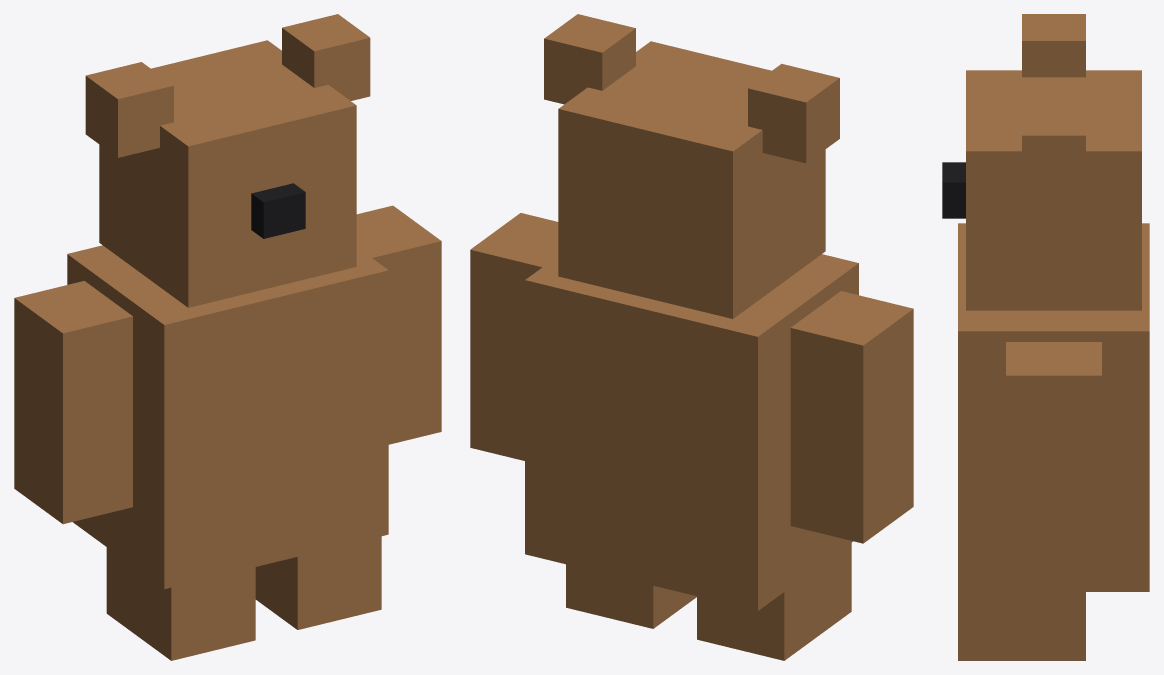
Rendered from GD_TeddyBear_01.glb.
3 renders of one model, left to right at view 1: azimuth 30°, elevation 25°; view 2: azimuth 150°, elevation 25°; view 3: azimuth 270°, elevation 25°, orthographic. The views are drawn at different scales.
Visible parts, largest first — view 1: GD_TeddyBear_01; view 2: GD_TeddyBear_01; view 3: GD_TeddyBear_01.
Part boxes in pixels (x1,y1,x2,y2): GD_TeddyBear_01: (14, 14, 441, 660); GD_TeddyBear_01: (470, 14, 913, 660); GD_TeddyBear_01: (942, 14, 1149, 660).
Bounding box in the file's own units: 0.27 × 0.37 × 0.13.
Materials: 1 (1 with a texture image).
